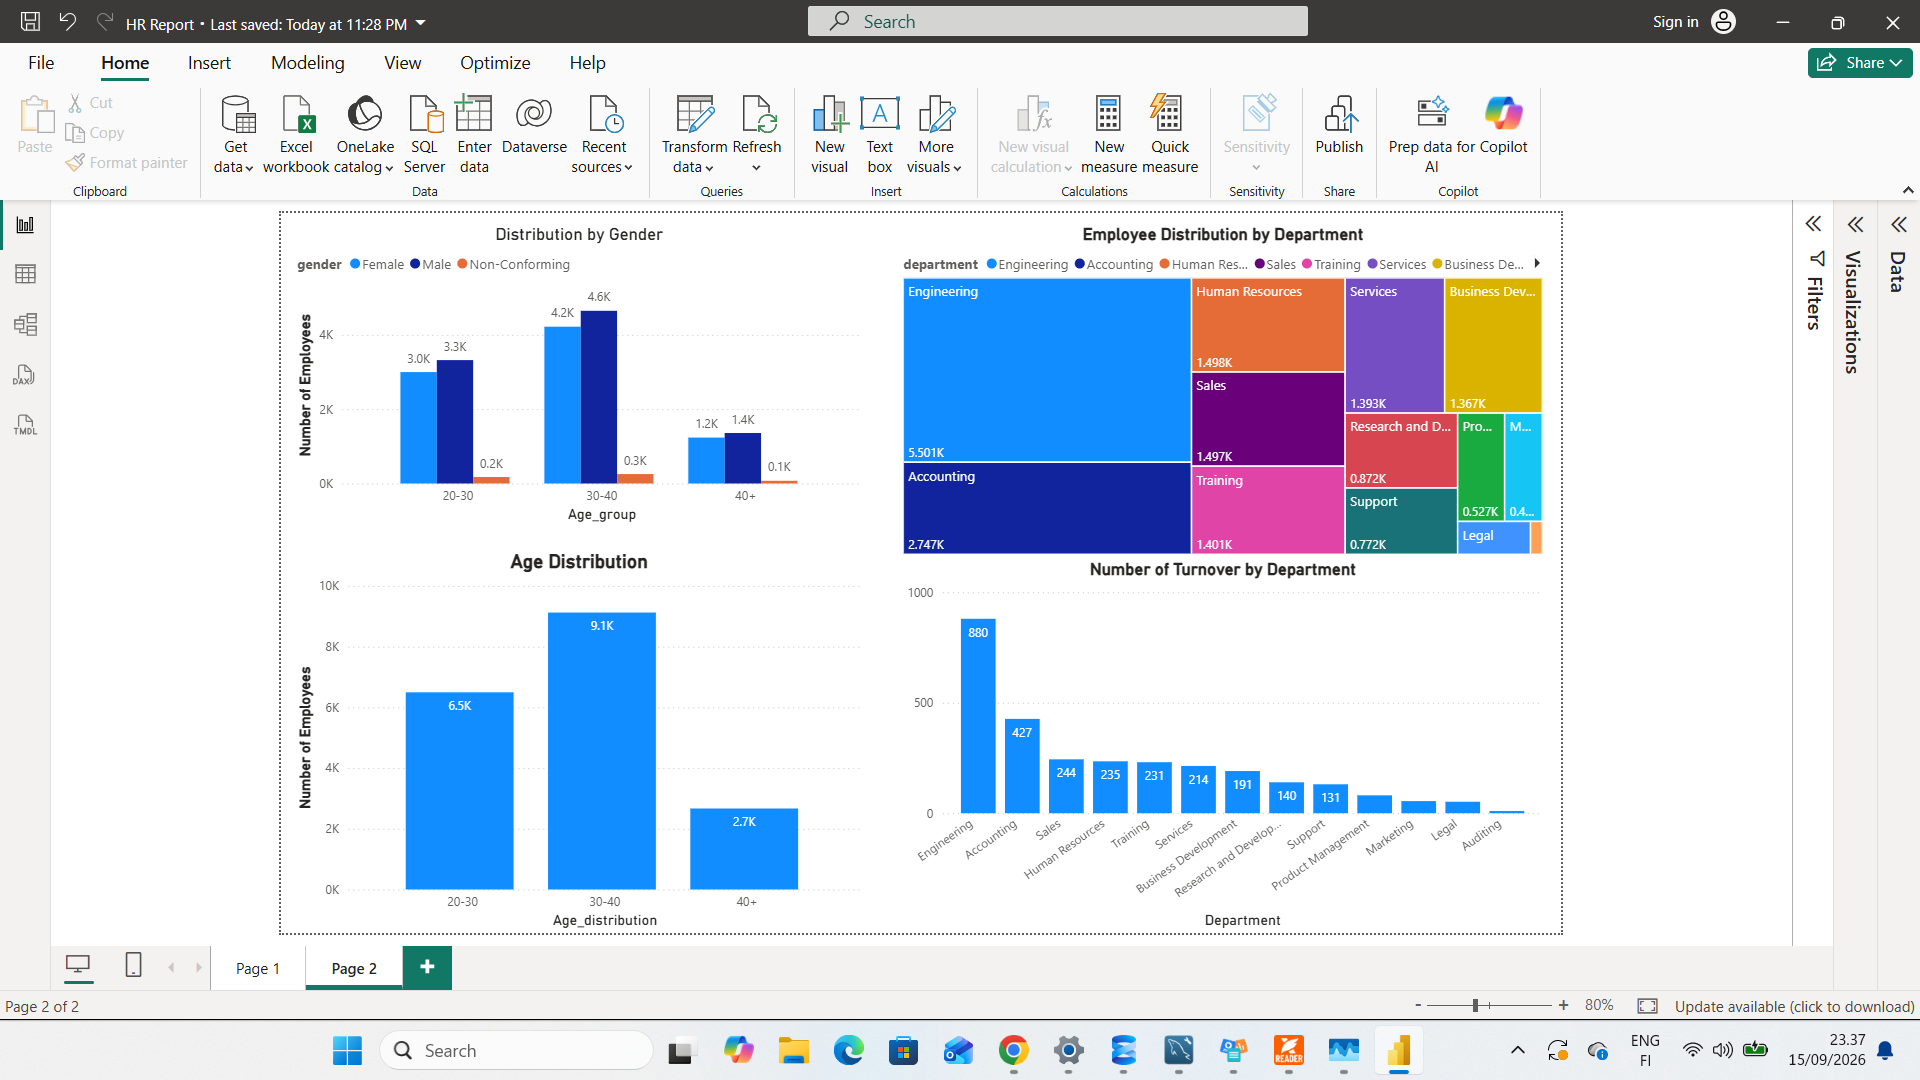

This screenshot's page, from the dashboard's own definition file:
{"tool":"powerbi","page":{"name":"Page 2","canvas":[1280,720],"ordinal":1},"visuals":[{"type":"tableEx","fields":{"Values":["gender distribution by department.department","Sum(gender distribution by department.count)"]},"box":[782.6,11,497.7,348.5],"z":0},{"type":"clusteredColumnChart","title":"Distribution by Gender","fields":{"Category":["age distribution by gender.Age_group"],"Y":["Sum(age distribution by gender.count)"],"Series":["age distribution by gender.gender"]},"box":[11,11,727.6,360.7],"z":1000},{"type":"columnChart","title":"Age Distribution","fields":{"Category":["age distribution.Age_distribution"],"Y":["Sum(age distribution.count)"]},"box":[11,381.5,549.1,338.7],"z":2000},{"type":"clusteredColumnChart","title":"Job Title by Gender","fields":{"Y":["Sum(gender distribution by jobtitle.count)"],"Series":["gender distribution by jobtitle.gender"],"Category":["gender distribution by jobtitle.jobtitle"]},"box":[631,381.5,649.3,299.6],"z":3000}]}

Visuals, with their boxes on the page's 1280x720 design canvas (x1, y1, x2, y2). These are canvas units, not pixel positions in the 1920x1080 screenshot, which may show the page scaled, cropped or inside an application window:
tableEx - gender distribution by department.department x Sum(gender distribution by department.count): box=[783, 11, 1280, 360]
"Distribution by Gender" clusteredColumnChart: box=[11, 11, 739, 372]
"Age Distribution" columnChart: box=[11, 382, 560, 720]
"Job Title by Gender" clusteredColumnChart: box=[631, 382, 1280, 681]
